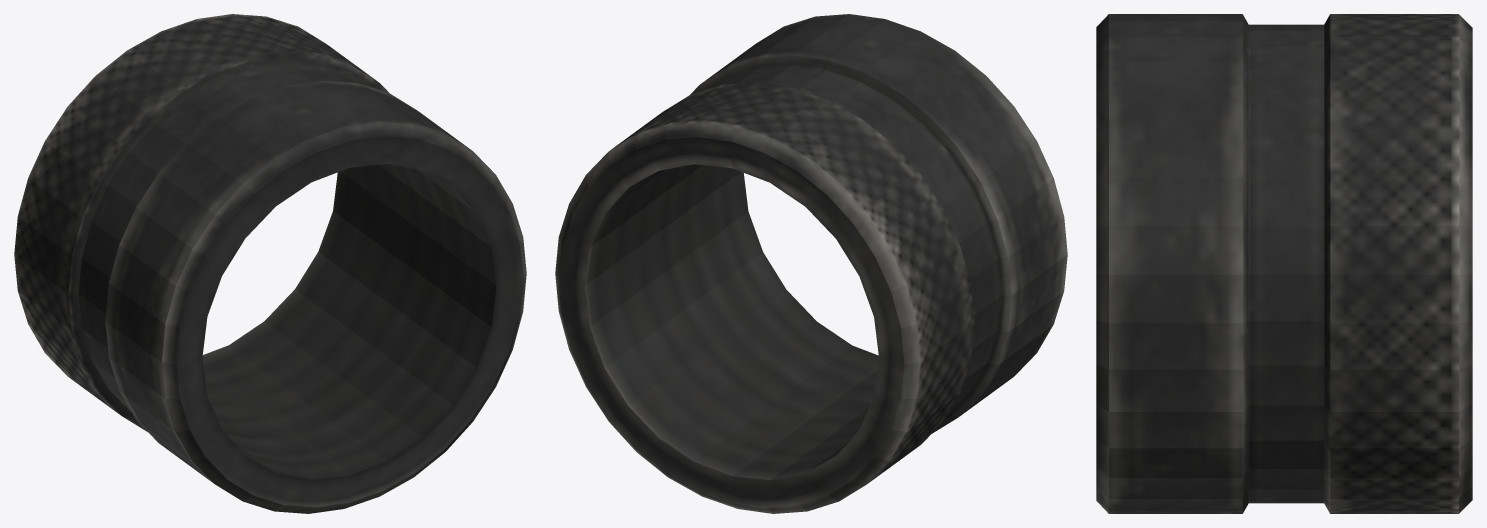
The picture shows the model from 3 angles, left to right: view 1: azimuth 30°, elevation 25°; view 2: azimuth 150°, elevation 25°; view 3: azimuth 270°, elevation 25°; orthographic projection. The views are drawn at different scales.
Visible parts, largest first — view 1: TW_673f3f5eef7545280c00f026_PZ_Import; view 2: TW_673f3f5eef7545280c00f026_PZ_Import; view 3: TW_673f3f5eef7545280c00f026_PZ_Import.
Boxes of the visible parts, x1,y1,x2,y2 form: TW_673f3f5eef7545280c00f026_PZ_Import: [14, 14, 526, 513]; TW_673f3f5eef7545280c00f026_PZ_Import: [555, 14, 1067, 513]; TW_673f3f5eef7545280c00f026_PZ_Import: [1096, 14, 1472, 513].
Size of the model in its own units: 0.0127 by 0.00953 by 0.0127.
1 material, 1 textured.
